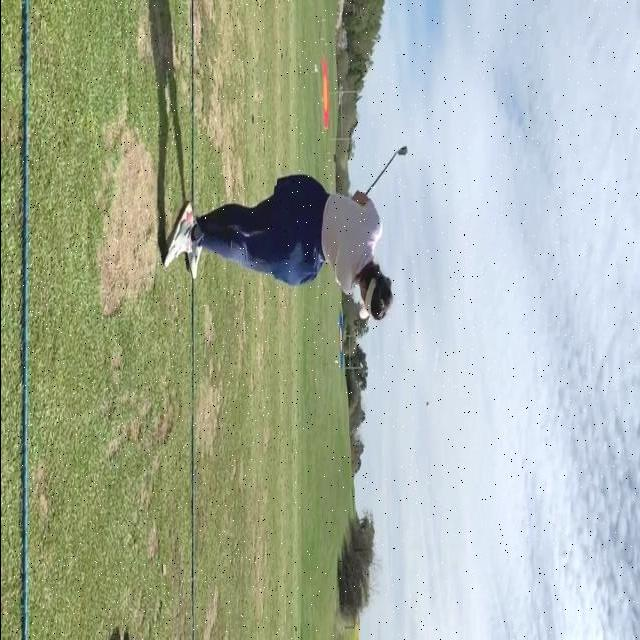ClubHandle: (365, 147, 407, 195)
ClubHead: (396, 146, 407, 156)
GolfBall: (425, 402, 428, 408)
